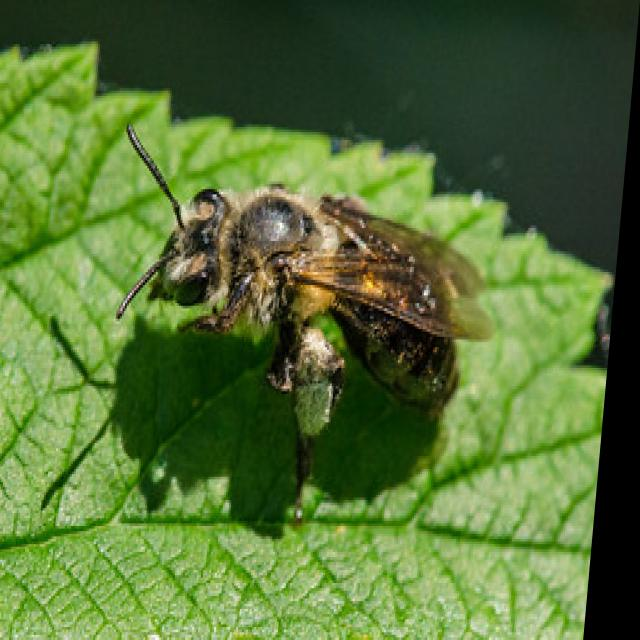Abeille: (59, 99, 551, 462)
